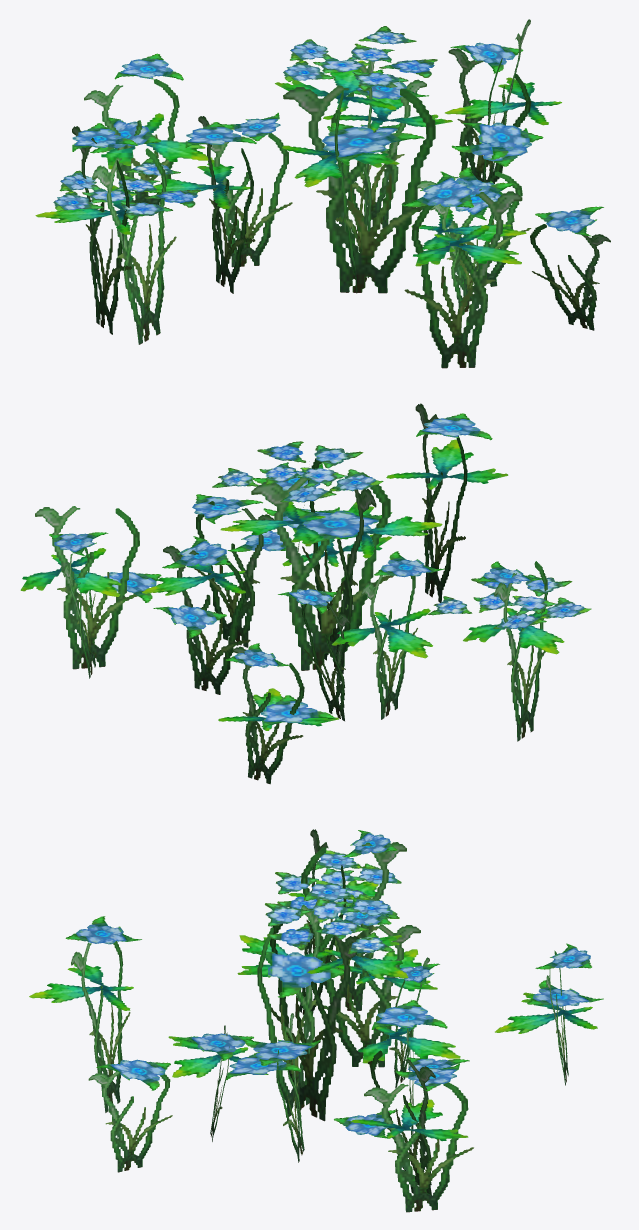
File: nml-bd084.glb
The picture shows the model from 3 angles, top to bottom: view 1: azimuth 30°, elevation 25°; view 2: azimuth 150°, elevation 25°; view 3: azimuth 270°, elevation 25°; orthographic projection. The views are drawn at different scales.
Parts seen in each view (by area): view 1: geom_node_0; view 2: geom_node_0; view 3: geom_node_0.
Part boxes in pixels (x1=…): geom_node_0: x1=35, y1=19, x2=610, y2=368; geom_node_0: x1=20, y1=403, x2=591, y2=784; geom_node_0: x1=29, y1=829, x2=603, y2=1212.
Bounding box in the file's own units: 5.33 × 1.99 × 5.41.
Materials: 1 (1 with a texture image).
